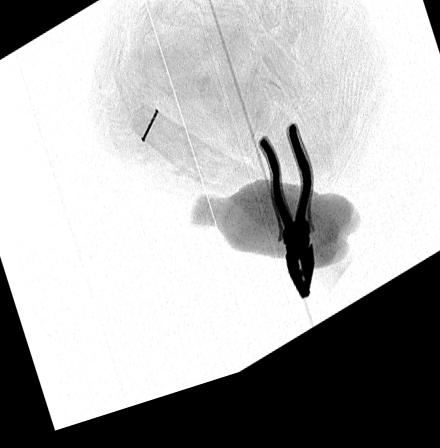Pliers: (255, 134, 316, 320)
